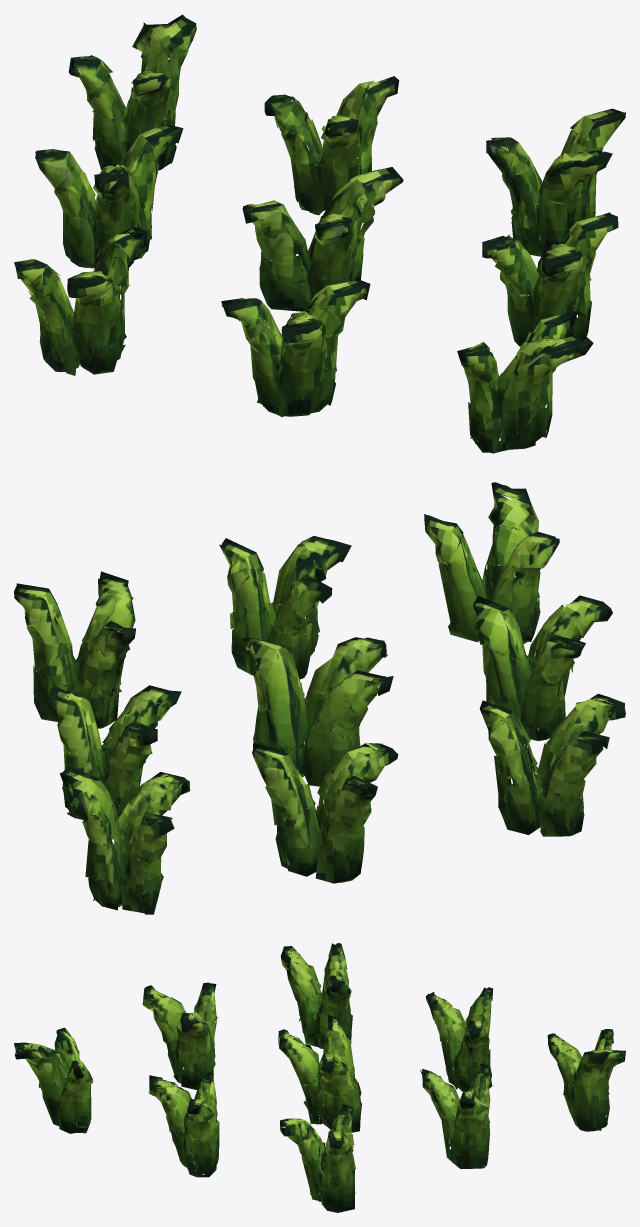
The model's file is tile_grass.glb.
The picture shows the model from 3 angles, top to bottom: view 1: azimuth 30°, elevation 25°; view 2: azimuth 150°, elevation 25°; view 3: azimuth 270°, elevation 25°; orthographic projection. The views are drawn at different scales.
Visible parts, largest first — view 1: Mesh_0; view 2: Mesh_0; view 3: Mesh_0.
Boxes of the visible parts, x1,y1,x2,y2 form: Mesh_0: (14,14,625,453); Mesh_0: (14,482,625,914); Mesh_0: (14,943,625,1212).
Size of the model in its own units: 1.51 by 0.3107 by 1.9.
1 material, 1 textured.
